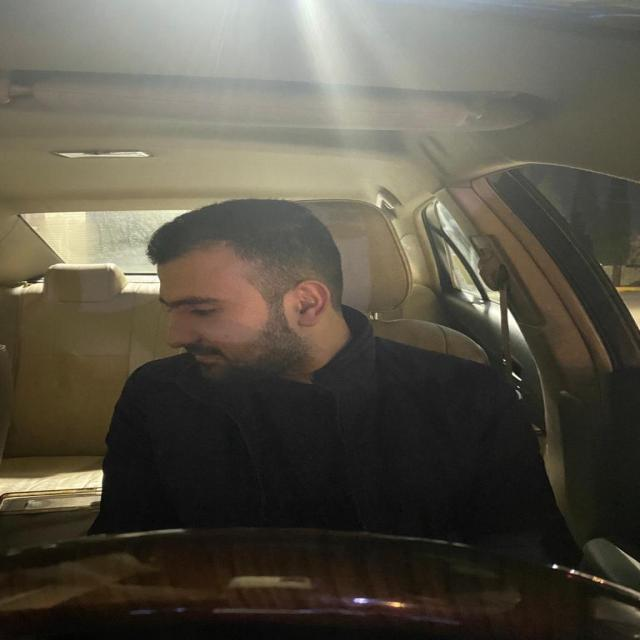LeftRight: (128, 202, 376, 399)
